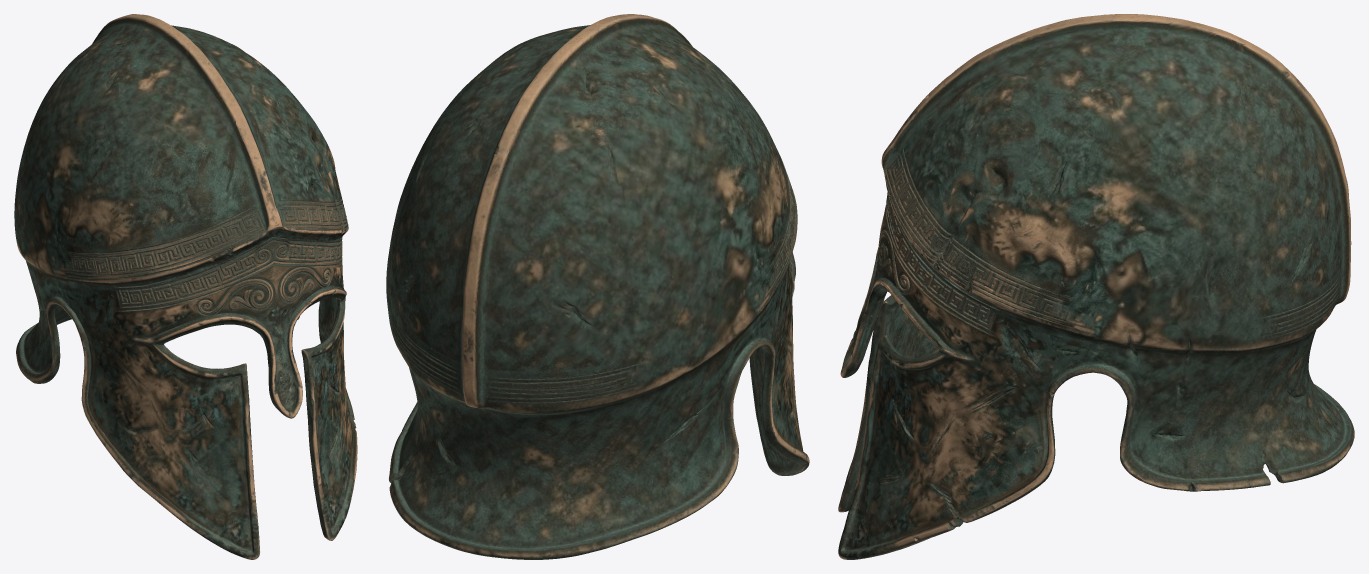
File: helmet.glb
3 views of the same model, side by side, from view 1: azimuth 30°, elevation 25°; view 2: azimuth 150°, elevation 25°; view 3: azimuth 270°, elevation 25° (orthographic). The views are drawn at different scales.
Parts seen in each view (by area): view 1: Mesh_0; view 2: Mesh_0; view 3: Mesh_0.
Boxes of the visible parts, bbox=[...] form: Mesh_0: bbox=[14, 14, 357, 559]; Mesh_0: bbox=[386, 14, 809, 559]; Mesh_0: bbox=[838, 14, 1354, 559].
Size of the model in its own units: 1.2 by 1.9 by 1.72.
Materials: 1 (1 with a texture image).
